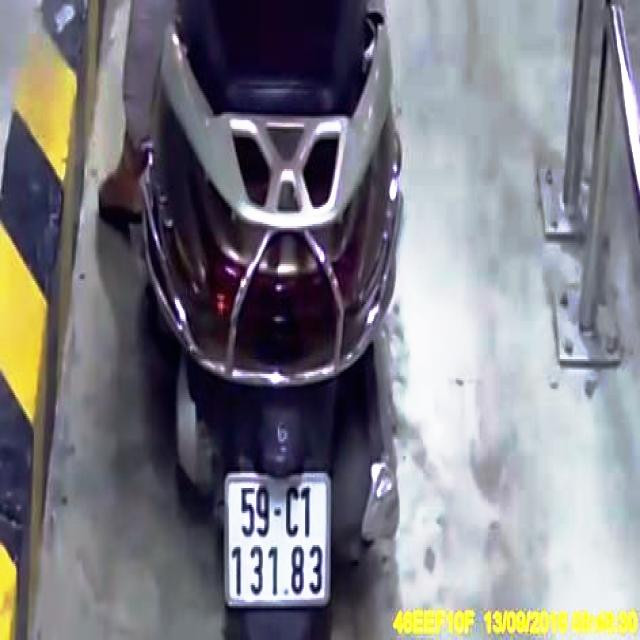license_plate: (227, 478, 330, 603)
